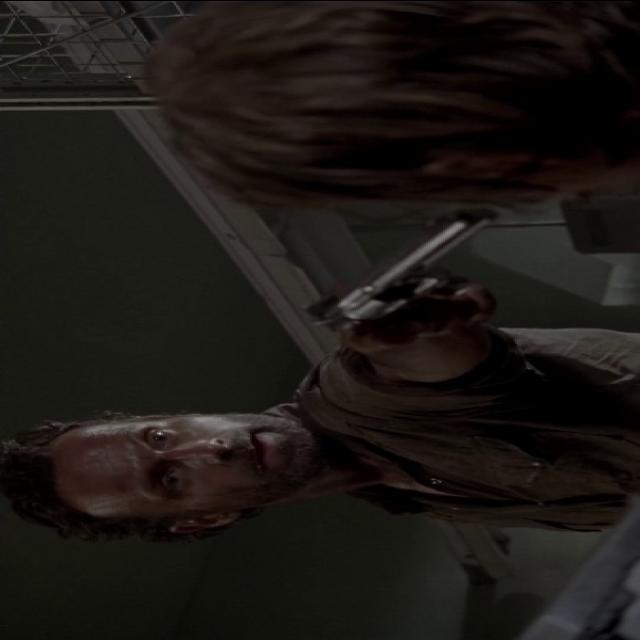weapons: (303, 199, 512, 357)
